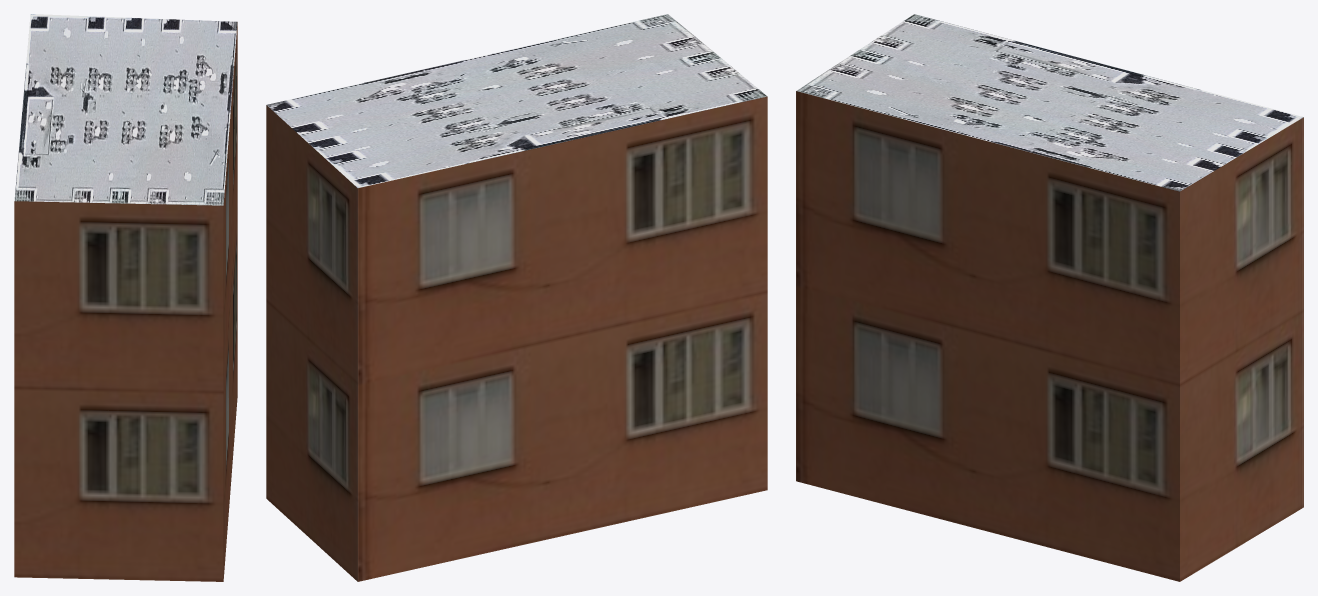
File: ResTex__4033.fbx
3 renders of one model, left to right at view 1: azimuth 30°, elevation 25°; view 2: azimuth 150°, elevation 25°; view 3: azimuth 270°, elevation 25°, orthographic. The views are drawn at different scales.
Parts seen in each view (by area): view 1: CityEngineMaterial_20_m, CityEngineMaterial_8_m; view 2: CityEngineMaterial_20_m, CityEngineMaterial_8_m; view 3: CityEngineMaterial_20_m, CityEngineMaterial_8_m.
Boxes of the visible parts, box(x1,y1,x2,y2) form: CityEngineMaterial_20_m: box(14, 22, 237, 581); CityEngineMaterial_8_m: box(14, 14, 237, 205); CityEngineMaterial_20_m: box(266, 96, 767, 581); CityEngineMaterial_8_m: box(267, 14, 767, 187); CityEngineMaterial_20_m: box(796, 91, 1303, 581); CityEngineMaterial_8_m: box(796, 14, 1303, 191).
Bounding box in the file's own units: 5.86 × 6 × 7.07.
Materials: 2 (2 with a texture image).
